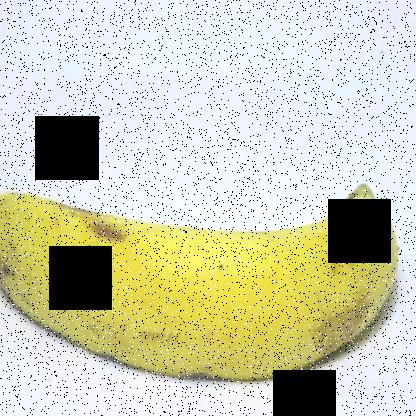freshripe: (0, 151, 407, 402)
